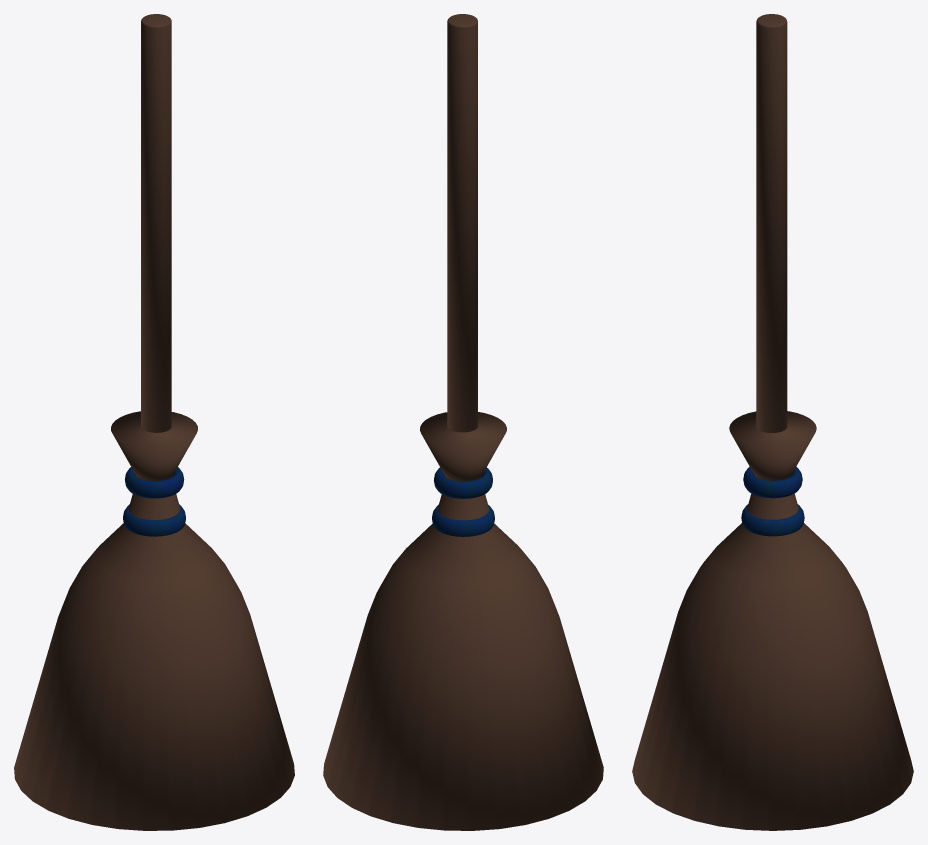
Rendered from houki3.fbx.
3 renders of one model, left to right at view 1: azimuth 30°, elevation 25°; view 2: azimuth 150°, elevation 25°; view 3: azimuth 270°, elevation 25°, orthographic.
Parts seen in each view (by area): view 1: トーラス.003; view 2: トーラス.003; view 3: トーラス.003.
Boxes of the visible parts, x1,y1,x2,y2 form: トーラス.003: (14,14,294,830); トーラス.003: (323,14,603,830); トーラス.003: (632,14,913,830).
Bounding box in the file's own units: 0.3285 × 0.9678 × 0.3285.
